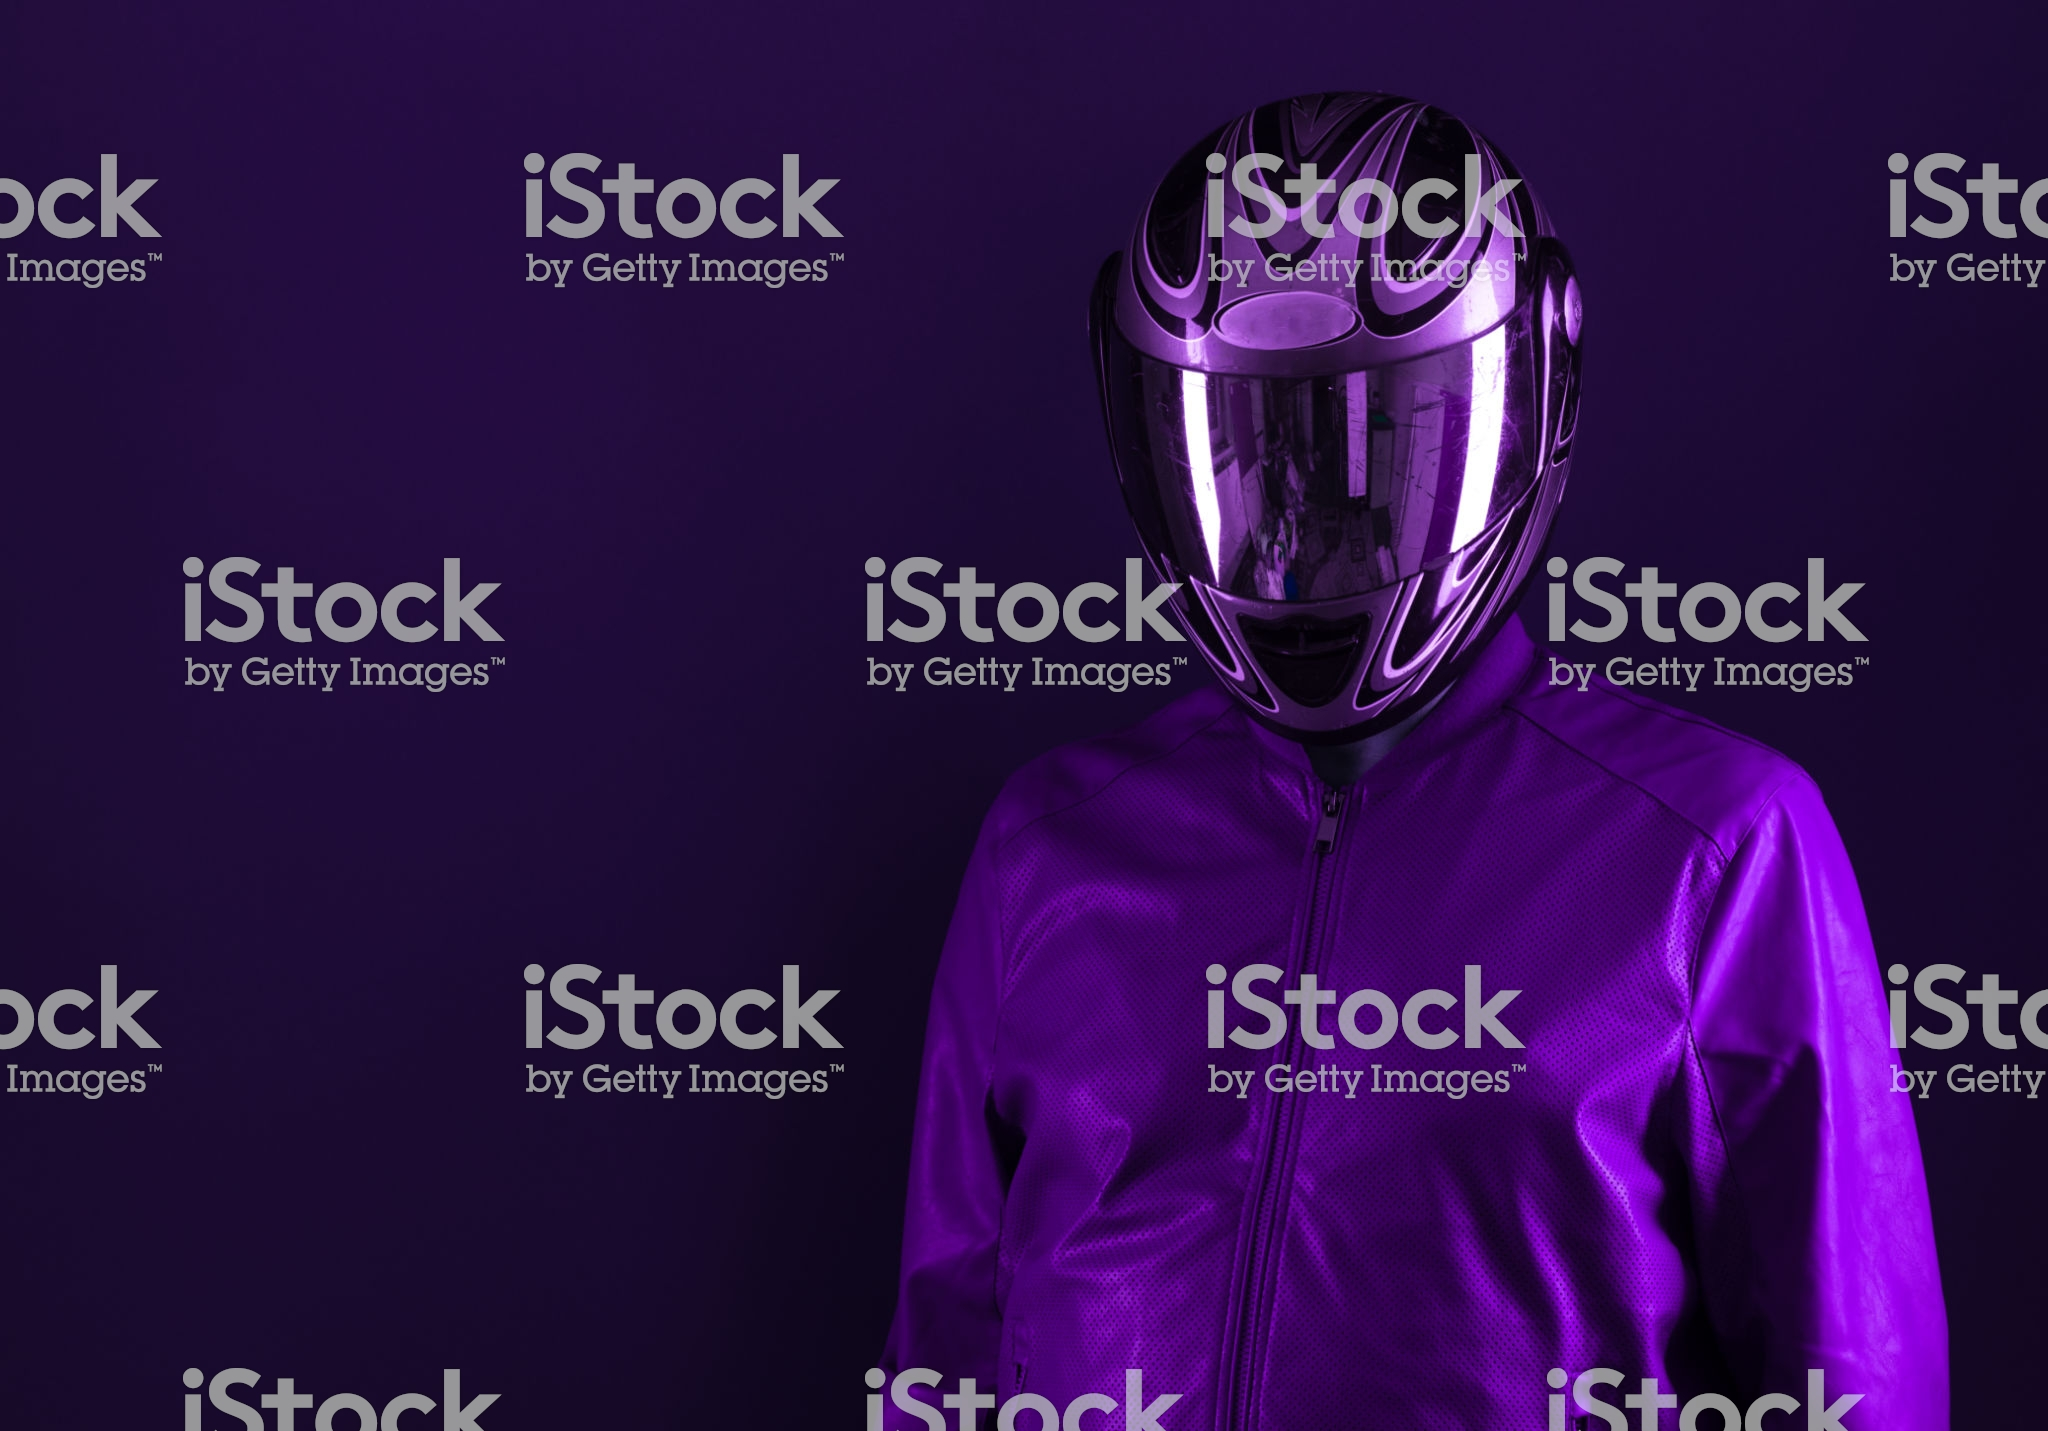helmet: (1072, 81, 1643, 734)
